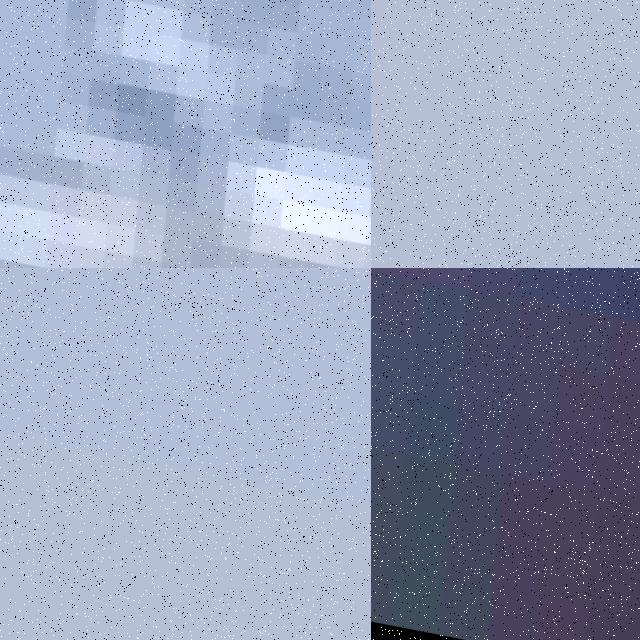drone: (371, 268, 640, 640), (0, 0, 371, 268)
